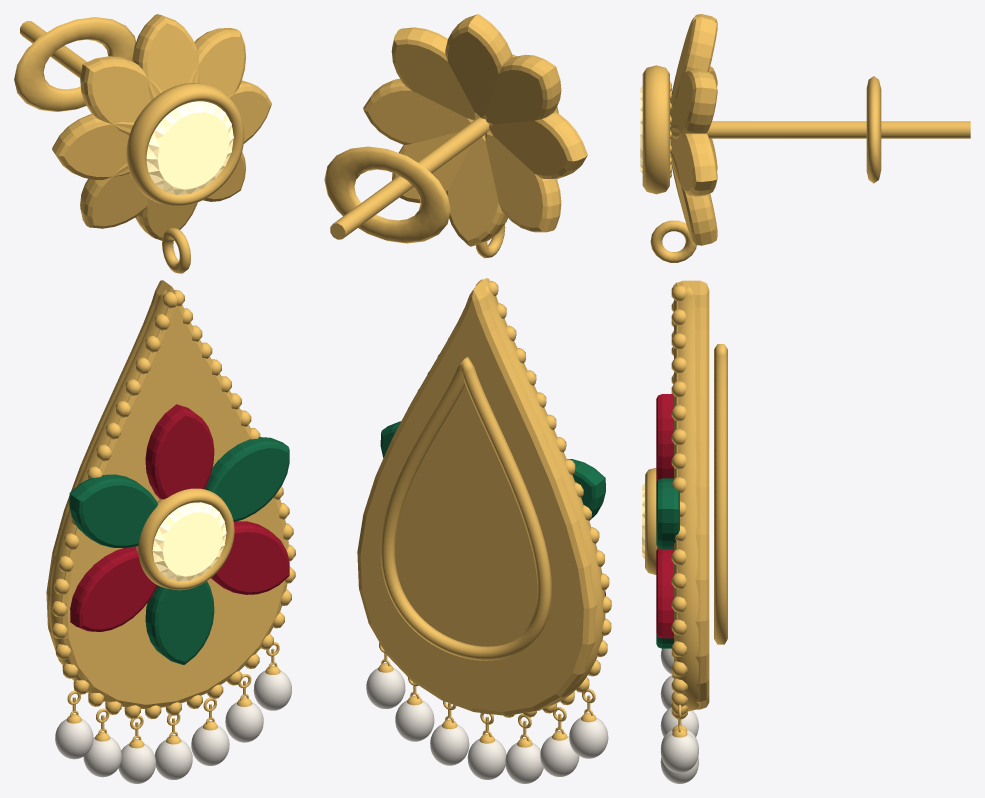
Rendered from meenakari-drop.glb.
3 views of the same model, side by side, from view 1: azimuth 30°, elevation 25°; view 2: azimuth 150°, elevation 25°; view 3: azimuth 270°, elevation 25° (orthographic). The views are drawn at different scales.
Parts seen in each view (by area): view 1: meenakari-drop_gold22k, meenakari-drop_enamelGreen, meenakari-drop_enamelRed, meenakari-drop_kundan, meenakari-drop_pearl; view 2: meenakari-drop_gold22k, meenakari-drop_pearl, meenakari-drop_enamelGreen; view 3: meenakari-drop_gold22k, meenakari-drop_enamelRed, meenakari-drop_pearl, meenakari-drop_enamelGreen.
Part boxes in pixels (<box>): meenakari-drop_gold22k: <box>14,14,295,748</box>; meenakari-drop_enamelGreen: <box>69,437,289,664</box>; meenakari-drop_enamelRed: <box>70,404,289,631</box>; meenakari-drop_kundan: <box>146,101,233,581</box>; meenakari-drop_pearl: <box>55,670,291,783</box>; meenakari-drop_gold22k: <box>324,14,611,747</box>; meenakari-drop_pearl: <box>366,668,608,783</box>; meenakari-drop_enamelGreen: <box>380,421,605,520</box>; meenakari-drop_gold22k: <box>642,14,970,737</box>; meenakari-drop_enamelRed: <box>656,394,673,638</box>; meenakari-drop_pearl: <box>660,648,698,783</box>; meenakari-drop_enamelGreen: <box>656,478,679,648</box>.
Bounding box in the file's own units: 0.9429 × 2.82 × 1.13.
